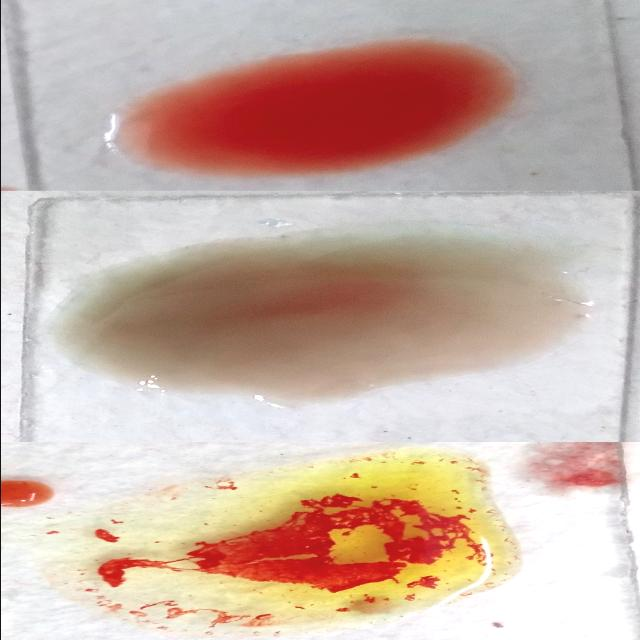B: (71, 460, 517, 624)
